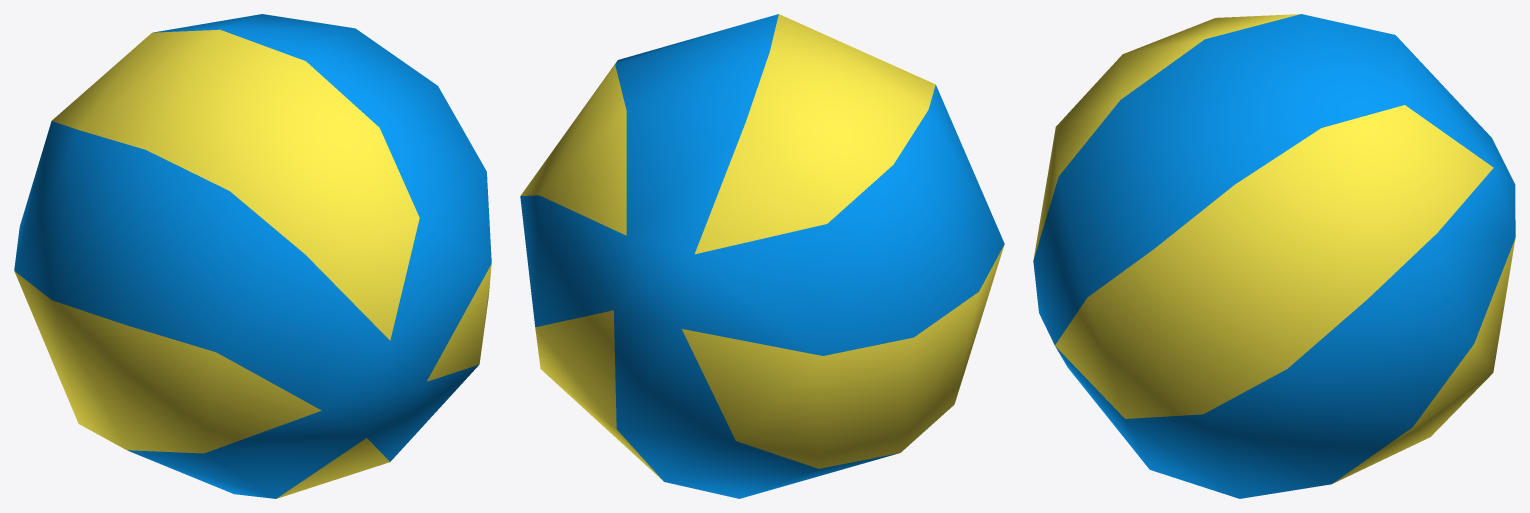
Rendered from toy_008.glb.
3 views of the same model, side by side, from view 1: azimuth 30°, elevation 25°; view 2: azimuth 150°, elevation 25°; view 3: azimuth 270°, elevation 25° (orthographic). The views are drawn at different scales.
Visible parts, largest first — view 1: toy_008; view 2: toy_008; view 3: toy_008.
Boxes of the visible parts, bbox=[...] form: toy_008: bbox=[14, 14, 491, 498]; toy_008: bbox=[520, 14, 1004, 498]; toy_008: bbox=[1033, 14, 1515, 498].
Bounding box in the file's own units: 0.2674 × 0.263 × 0.2571.
1 material, 1 textured.
